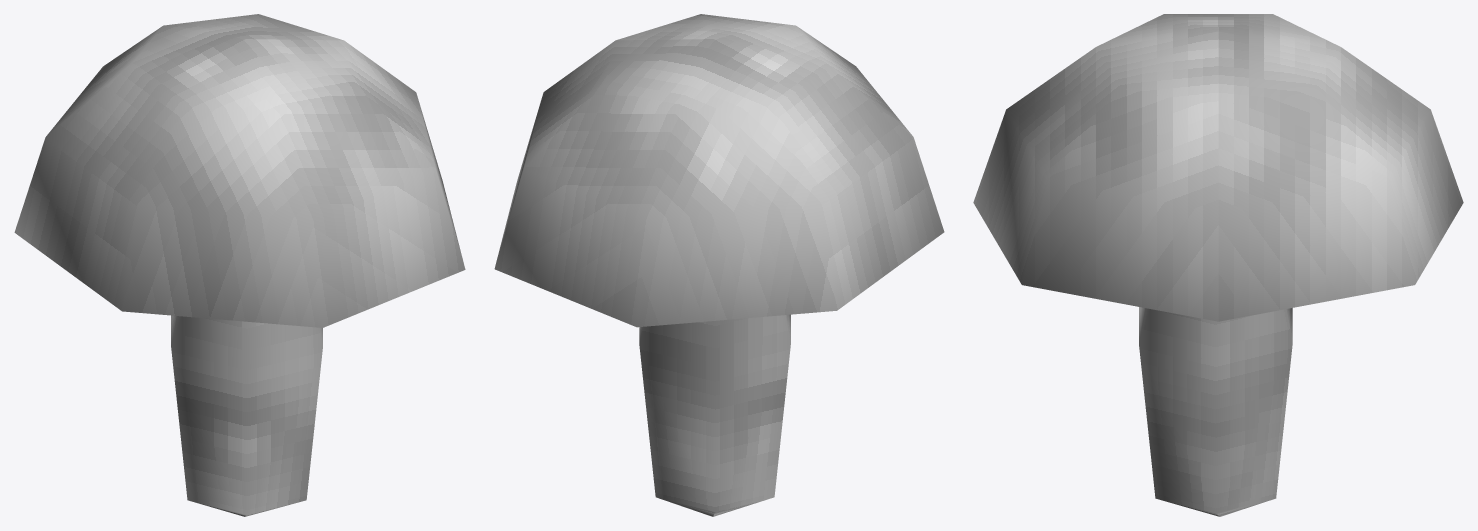
The model's file is fungus02.obj.
3 renders of one model, left to right at view 1: azimuth 30°, elevation 25°; view 2: azimuth 150°, elevation 25°; view 3: azimuth 270°, elevation 25°, orthographic.
Visible parts, largest first — view 1: Sphere02, Cylinder03; view 2: Sphere02, Cylinder03; view 3: Sphere02, Cylinder03.
Part boxes in pixels (x1,y1,x2,y2): Sphere02: [14, 14, 465, 327]; Cylinder03: [171, 315, 322, 516]; Sphere02: [494, 14, 944, 327]; Cylinder03: [639, 314, 790, 516]; Sphere02: [973, 14, 1463, 321]; Cylinder03: [1139, 307, 1292, 516].
Bounding box in the file's own units: 19.71 × 24.08 × 22.07.
